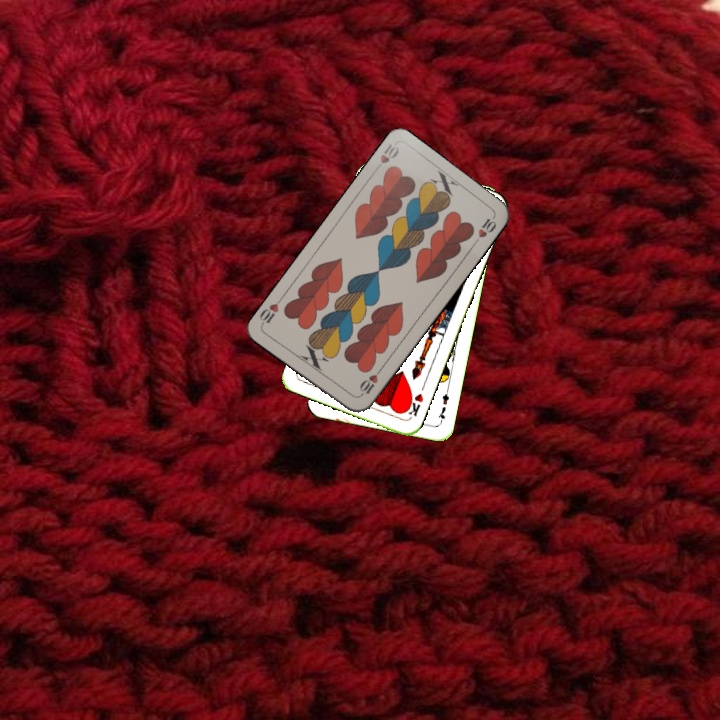E7: (434, 385, 452, 425)
H10: (370, 140, 402, 175), (355, 364, 384, 399)
HK: (401, 389, 426, 421)
